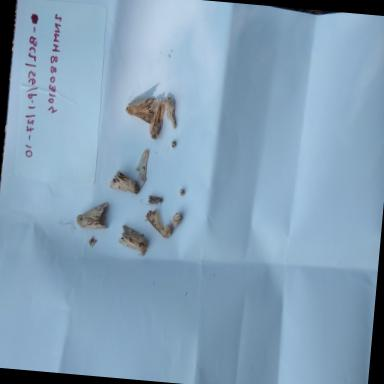abw: (71, 196, 117, 241), (110, 216, 152, 264), (106, 168, 148, 204), (123, 88, 157, 125), (148, 96, 166, 142), (161, 96, 181, 132)
